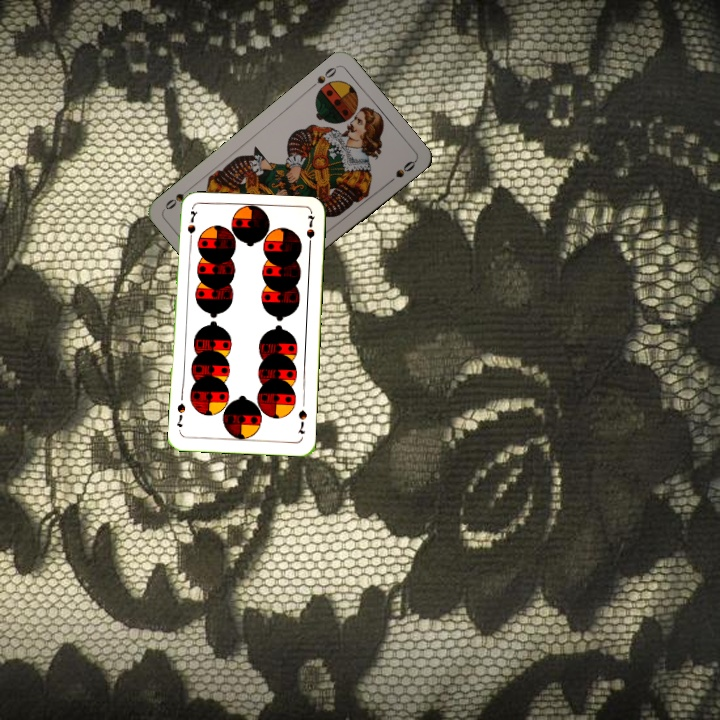S7: (183, 207, 200, 246), (294, 406, 310, 436)
SO: (306, 63, 340, 92)
